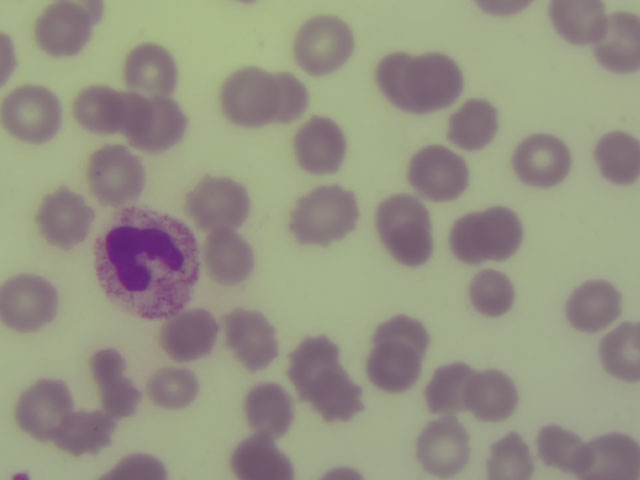RBC: (4, 84, 63, 144), (512, 129, 572, 186), (300, 188, 361, 244), (88, 145, 142, 207), (96, 350, 144, 419), (297, 14, 353, 72), (413, 419, 471, 475), (38, 190, 93, 247), (225, 65, 277, 125), (226, 309, 280, 366), (545, 2, 611, 48), (208, 227, 261, 284), (4, 275, 56, 332), (569, 279, 623, 332), (39, 3, 94, 55), (287, 335, 335, 393), (415, 145, 469, 195), (374, 311, 432, 357), (452, 97, 501, 151), (411, 54, 461, 106), (372, 339, 421, 392), (316, 370, 365, 423), (19, 382, 73, 430), (142, 98, 189, 152), (583, 436, 640, 480), (236, 437, 294, 480), (127, 48, 182, 93), (298, 121, 346, 171), (466, 270, 516, 318), (196, 181, 247, 228), (163, 313, 216, 358), (599, 14, 640, 72), (59, 412, 115, 454), (542, 424, 590, 473), (597, 135, 640, 188), (251, 386, 297, 435), (76, 87, 122, 134), (474, 371, 520, 418), (379, 54, 418, 108), (599, 325, 640, 376), (482, 206, 522, 258), (429, 367, 475, 412), (451, 218, 497, 262), (381, 193, 432, 231), (270, 74, 308, 121), (492, 436, 532, 480), (396, 222, 434, 268), (157, 369, 199, 407), (106, 458, 168, 480), (116, 97, 148, 138), (1, 31, 19, 78), (476, 1, 532, 14), (317, 466, 364, 480), (78, 2, 110, 22)
W: (99, 209, 194, 322)
